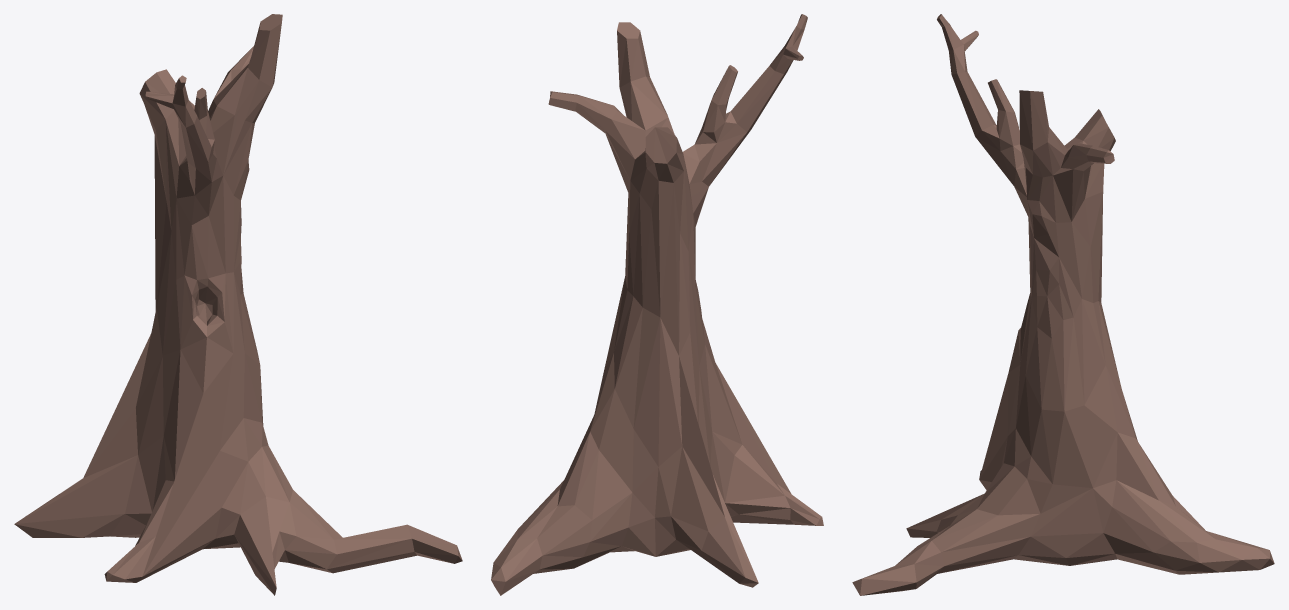
Rendered from fantasy_plant_005.fbx.
3 renders of one model, left to right at view 1: azimuth 30°, elevation 25°; view 2: azimuth 150°, elevation 25°; view 3: azimuth 270°, elevation 25°, orthographic. The views are drawn at different scales.
Visible parts, largest first — view 1: fantasy_plant.005; view 2: fantasy_plant.005; view 3: fantasy_plant.005.
Part boxes in pixels (x1=…): fantasy_plant.005: x1=14, y1=14, x2=462, y2=595; fantasy_plant.005: x1=491, y1=14, x2=823, y2=595; fantasy_plant.005: x1=852, y1=14, x2=1274, y2=595.
Size of the model in its own units: 366 by 626 by 486.
Materials: 1 (1 with a texture image).
